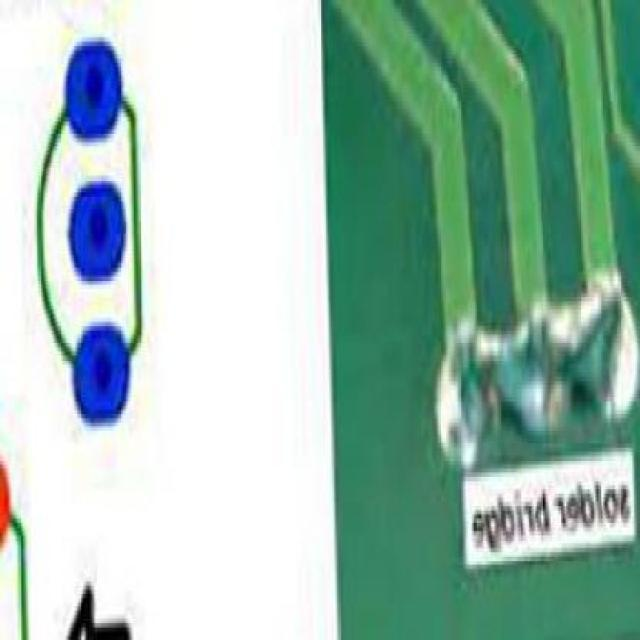Soldering shorted: (431, 263, 631, 448)
